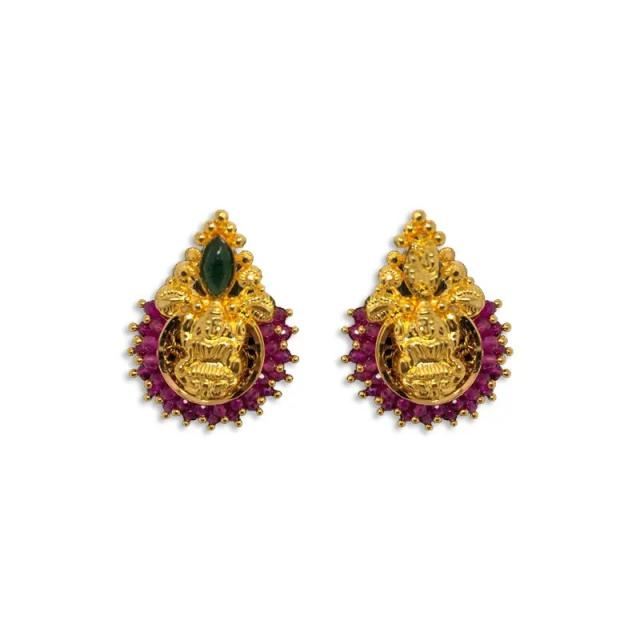missing gem: (410, 237, 438, 288)
